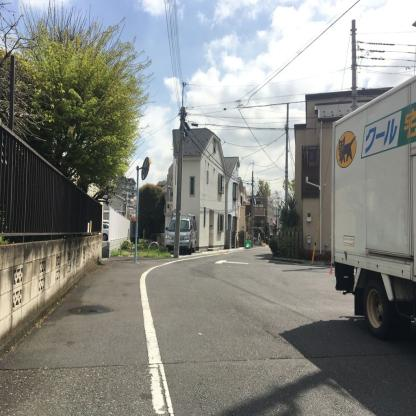Someiyoshino: (128, 190, 140, 221)
